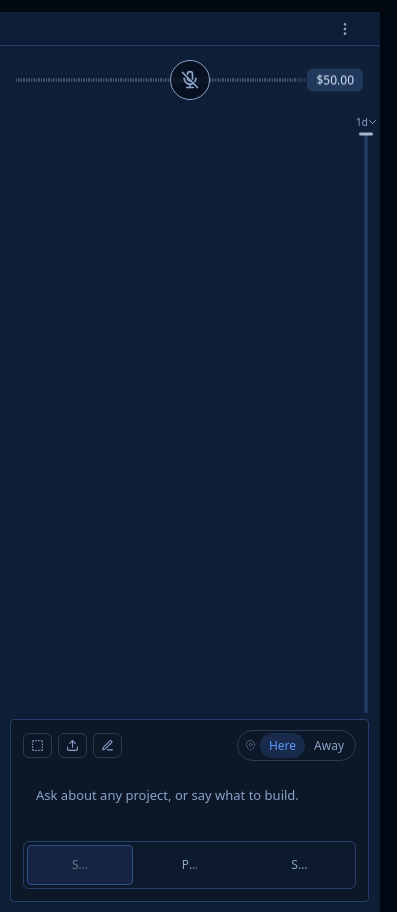
ConciergeHost — turn tokens (a superseded turn keeps talking — concierge.rs gates the reap) › a straggler from the OLD turn can't corrupt the new turn's reply
In the text box: (190,804) [23,775,356,833], type "first question"
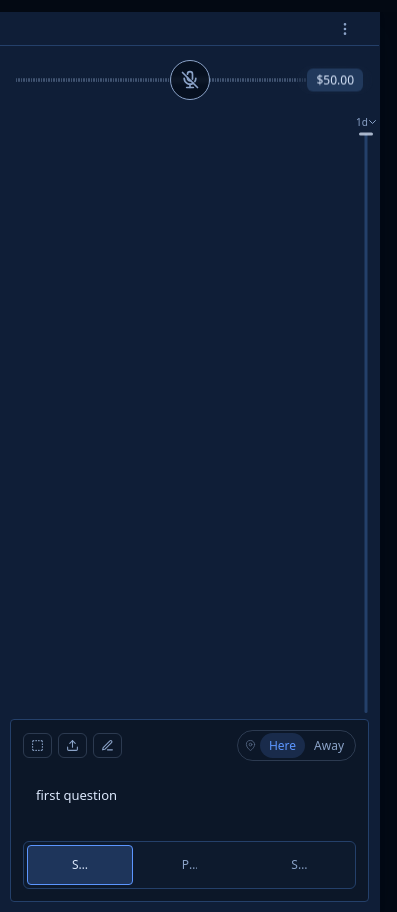
Click the button "Send": (80,865) [27,845,133,885]
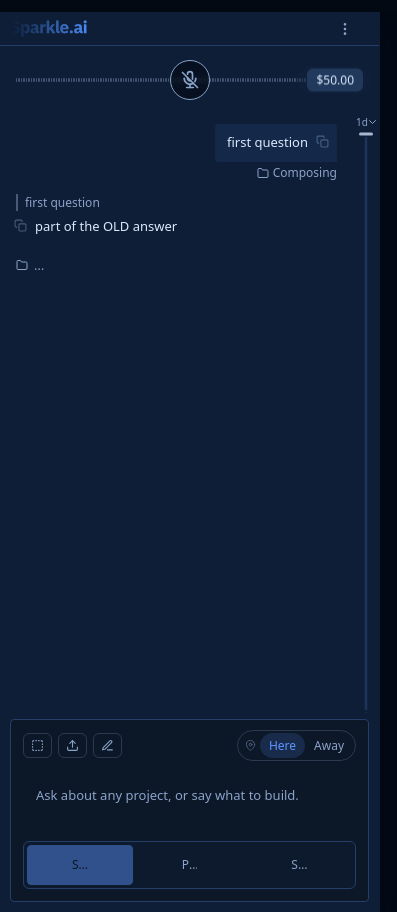
In the text box: (190,804) [23,775,356,833], type "second question"
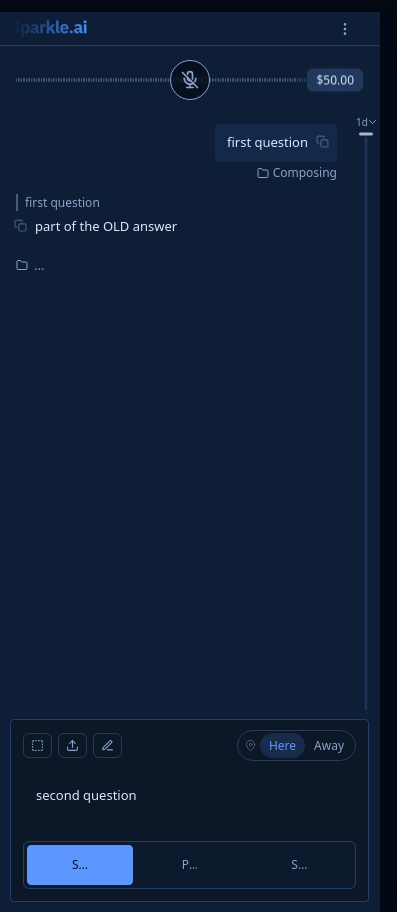
Click the button "Send": (80,865) [27,845,133,885]
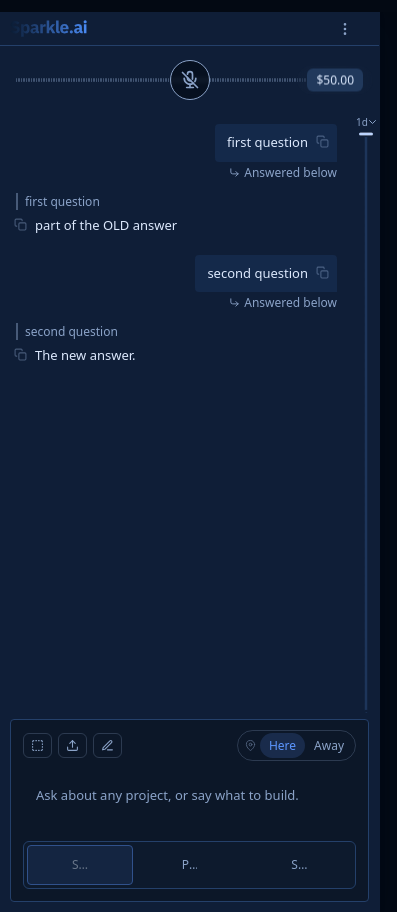
Check: the text "The new answer." is shown, box [35,346,136,364]
